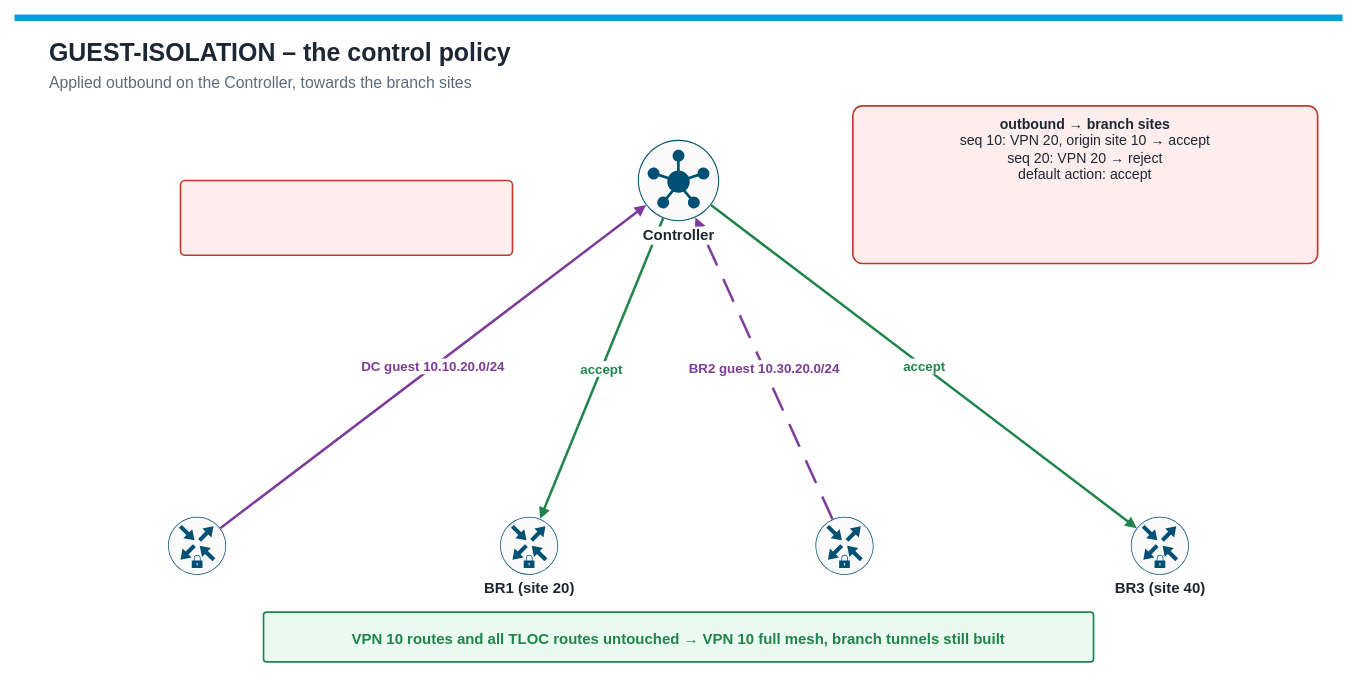
Image size: 1356x684. Some labels were removed from this diagram. Each missing label, with the box of its shape:
BR2 (site 30): (815, 516, 874, 575)
BR2's guest route hits seq 20 → reject never sent to BR1 or BR3: (179, 179, 513, 256)
DC (site 10): (167, 516, 226, 575)
